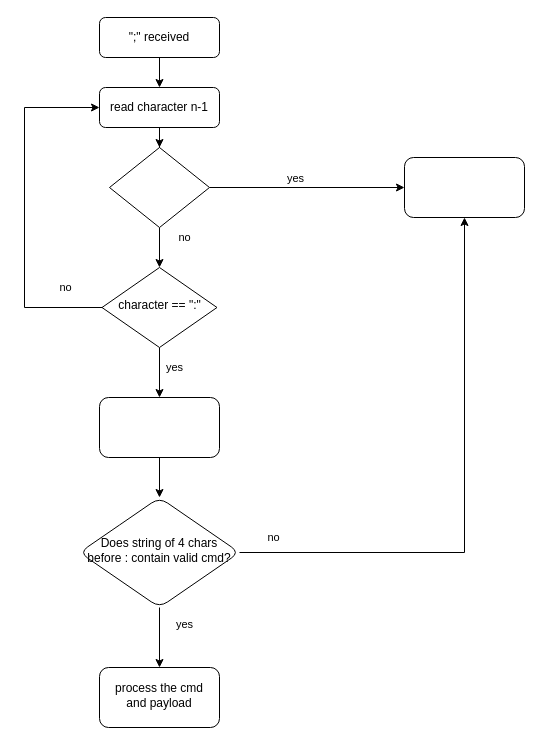
Some shapes in this 542 by 745 pixel diagram are drawn without their labels. Each missing label, with the centre of its shape:
"buffer size reached?" belongs at point 159,187.
"discard cmd and start over" belongs at point 464,187.
"Store string between : and ; as payload" belongs at point 159,427.
